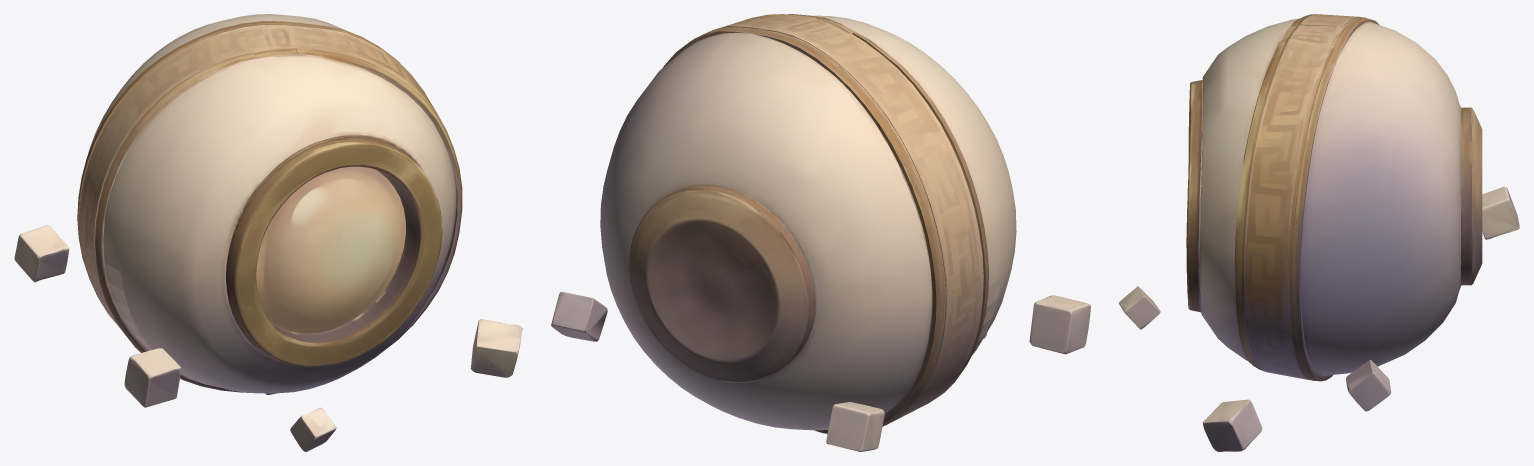
The model's file is SM_Spotlight_01.fbx.
The picture shows the model from 3 angles, left to right: view 1: azimuth 30°, elevation 25°; view 2: azimuth 150°, elevation 25°; view 3: azimuth 270°, elevation 25°; orthographic projection. The views are drawn at different scales.
Parts seen in each view (by area): view 1: SM_Spotlight_01; view 2: SM_Spotlight_01; view 3: SM_Spotlight_01.
Part boxes in pixels (x1,y1,x2,y2): SM_Spotlight_01: (14, 14, 522, 451); SM_Spotlight_01: (551, 14, 1090, 451); SM_Spotlight_01: (1119, 14, 1519, 451).
Bounding box in the file's own units: 37.7 × 31.95 × 34.85.
1 material, 1 textured.
